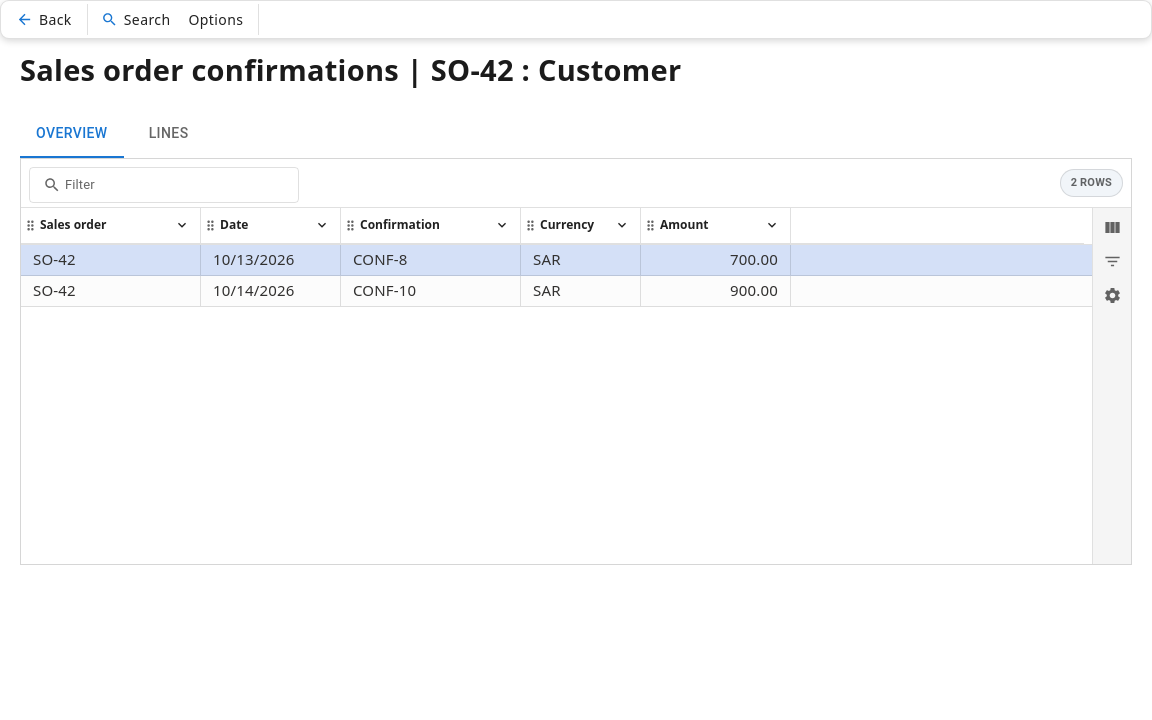
Test case: CustConfirmJournal › shows read-only overview and historical line snapshot
Expected: the text "CONF-8" is shown, [353,249,408,269]
Click the tab "Lines" at point(169, 134), box [124,110,214,158]
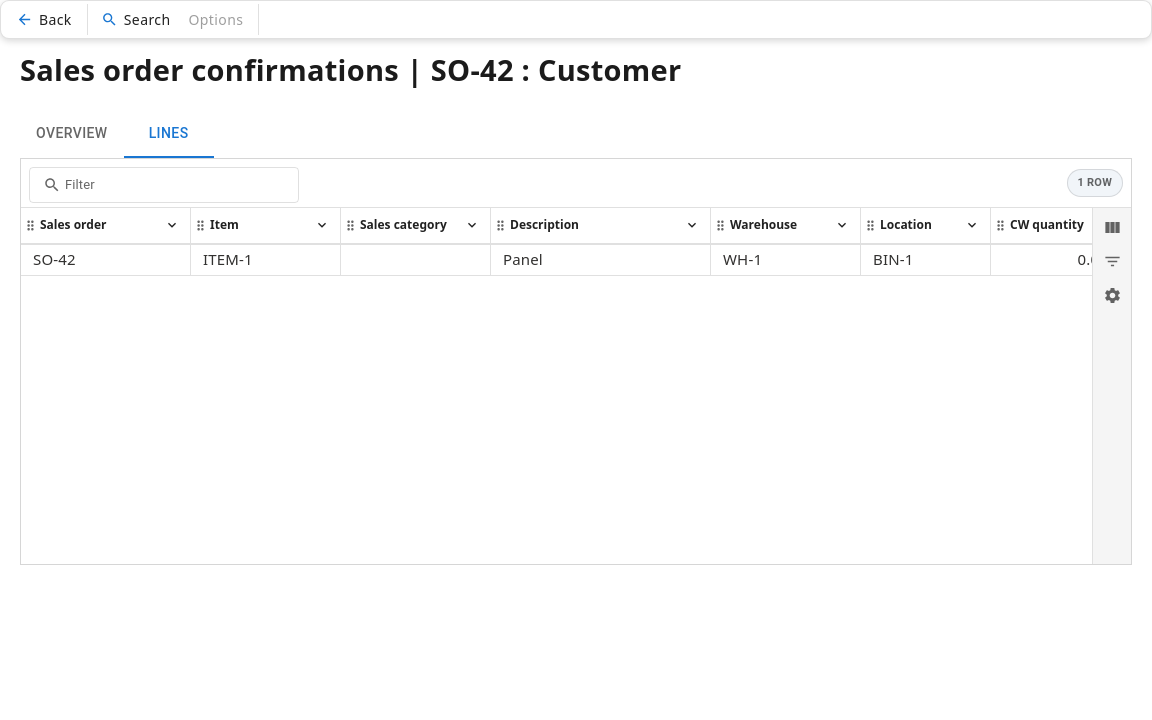
Expected: the text "ITEM-1" is shown, [203,249,253,269]
Expected: the text "WH-1" is shown, [723,249,762,269]
Expected: the text "BIN-1" is shown, [873,249,914,269]
